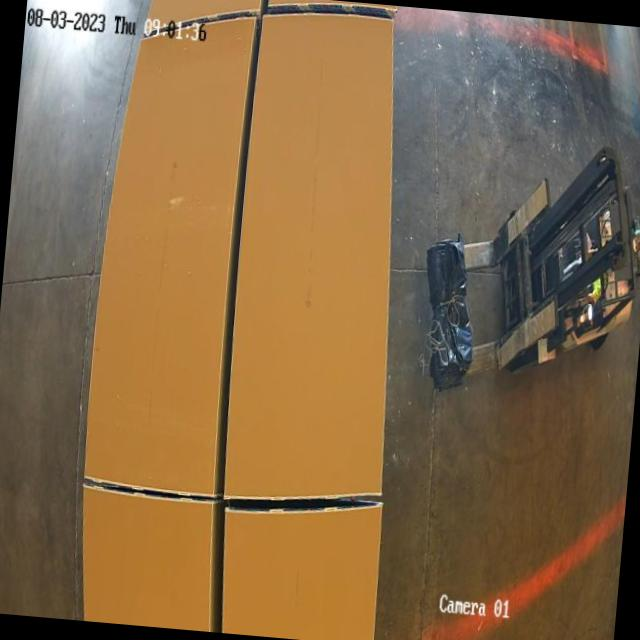forklift: (489, 129, 640, 390)
